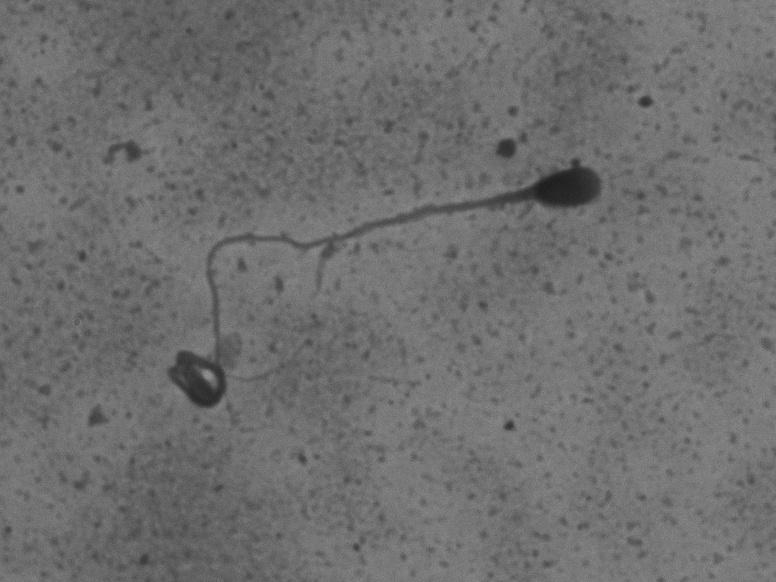Abnormal: (197, 144, 608, 434)
